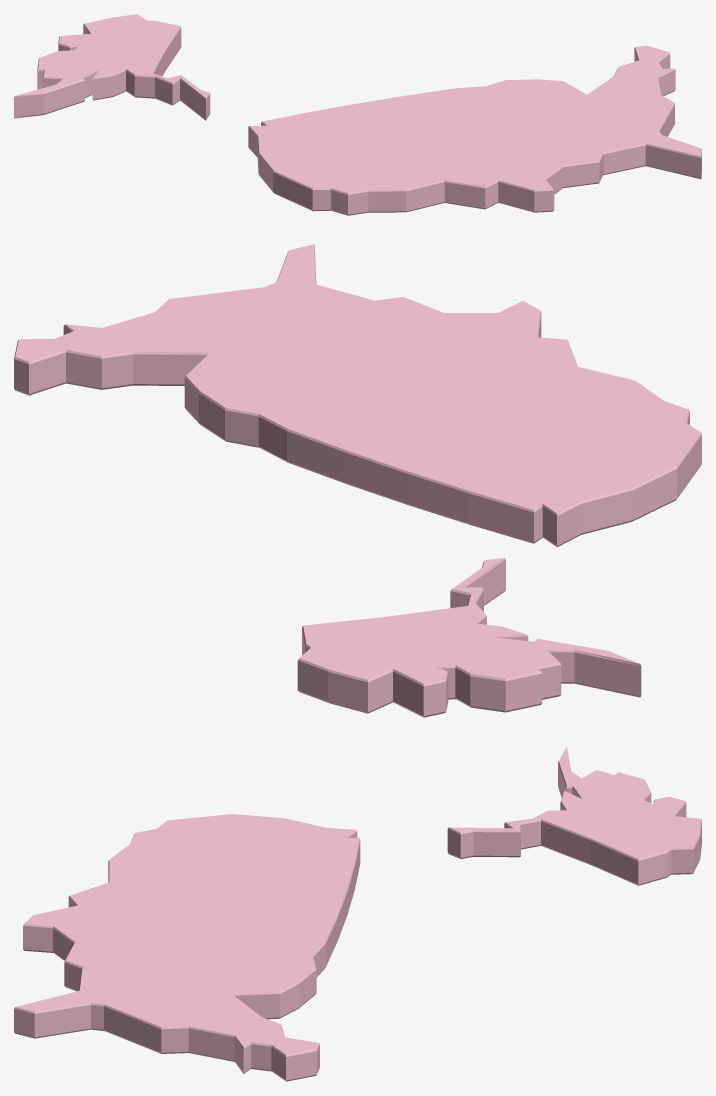
File: USA.glb
3 views of the same model, one above another, from view 1: azimuth 30°, elevation 25°; view 2: azimuth 150°, elevation 25°; view 3: azimuth 270°, elevation 25° (orthographic). The views are drawn at different scales.
Bounding box in the file's own units: 1.69 × 0.068 × 1.59.
